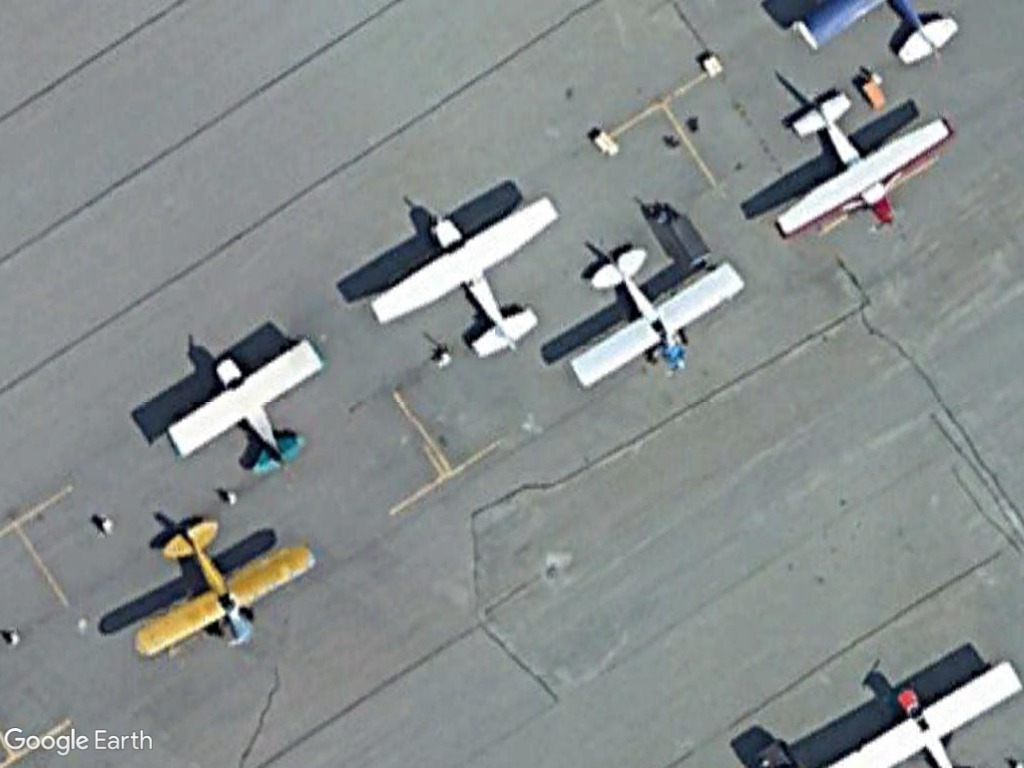trainer: (367, 182, 561, 368), (765, 89, 954, 252), (125, 512, 321, 668), (158, 330, 324, 484), (571, 248, 746, 392)
